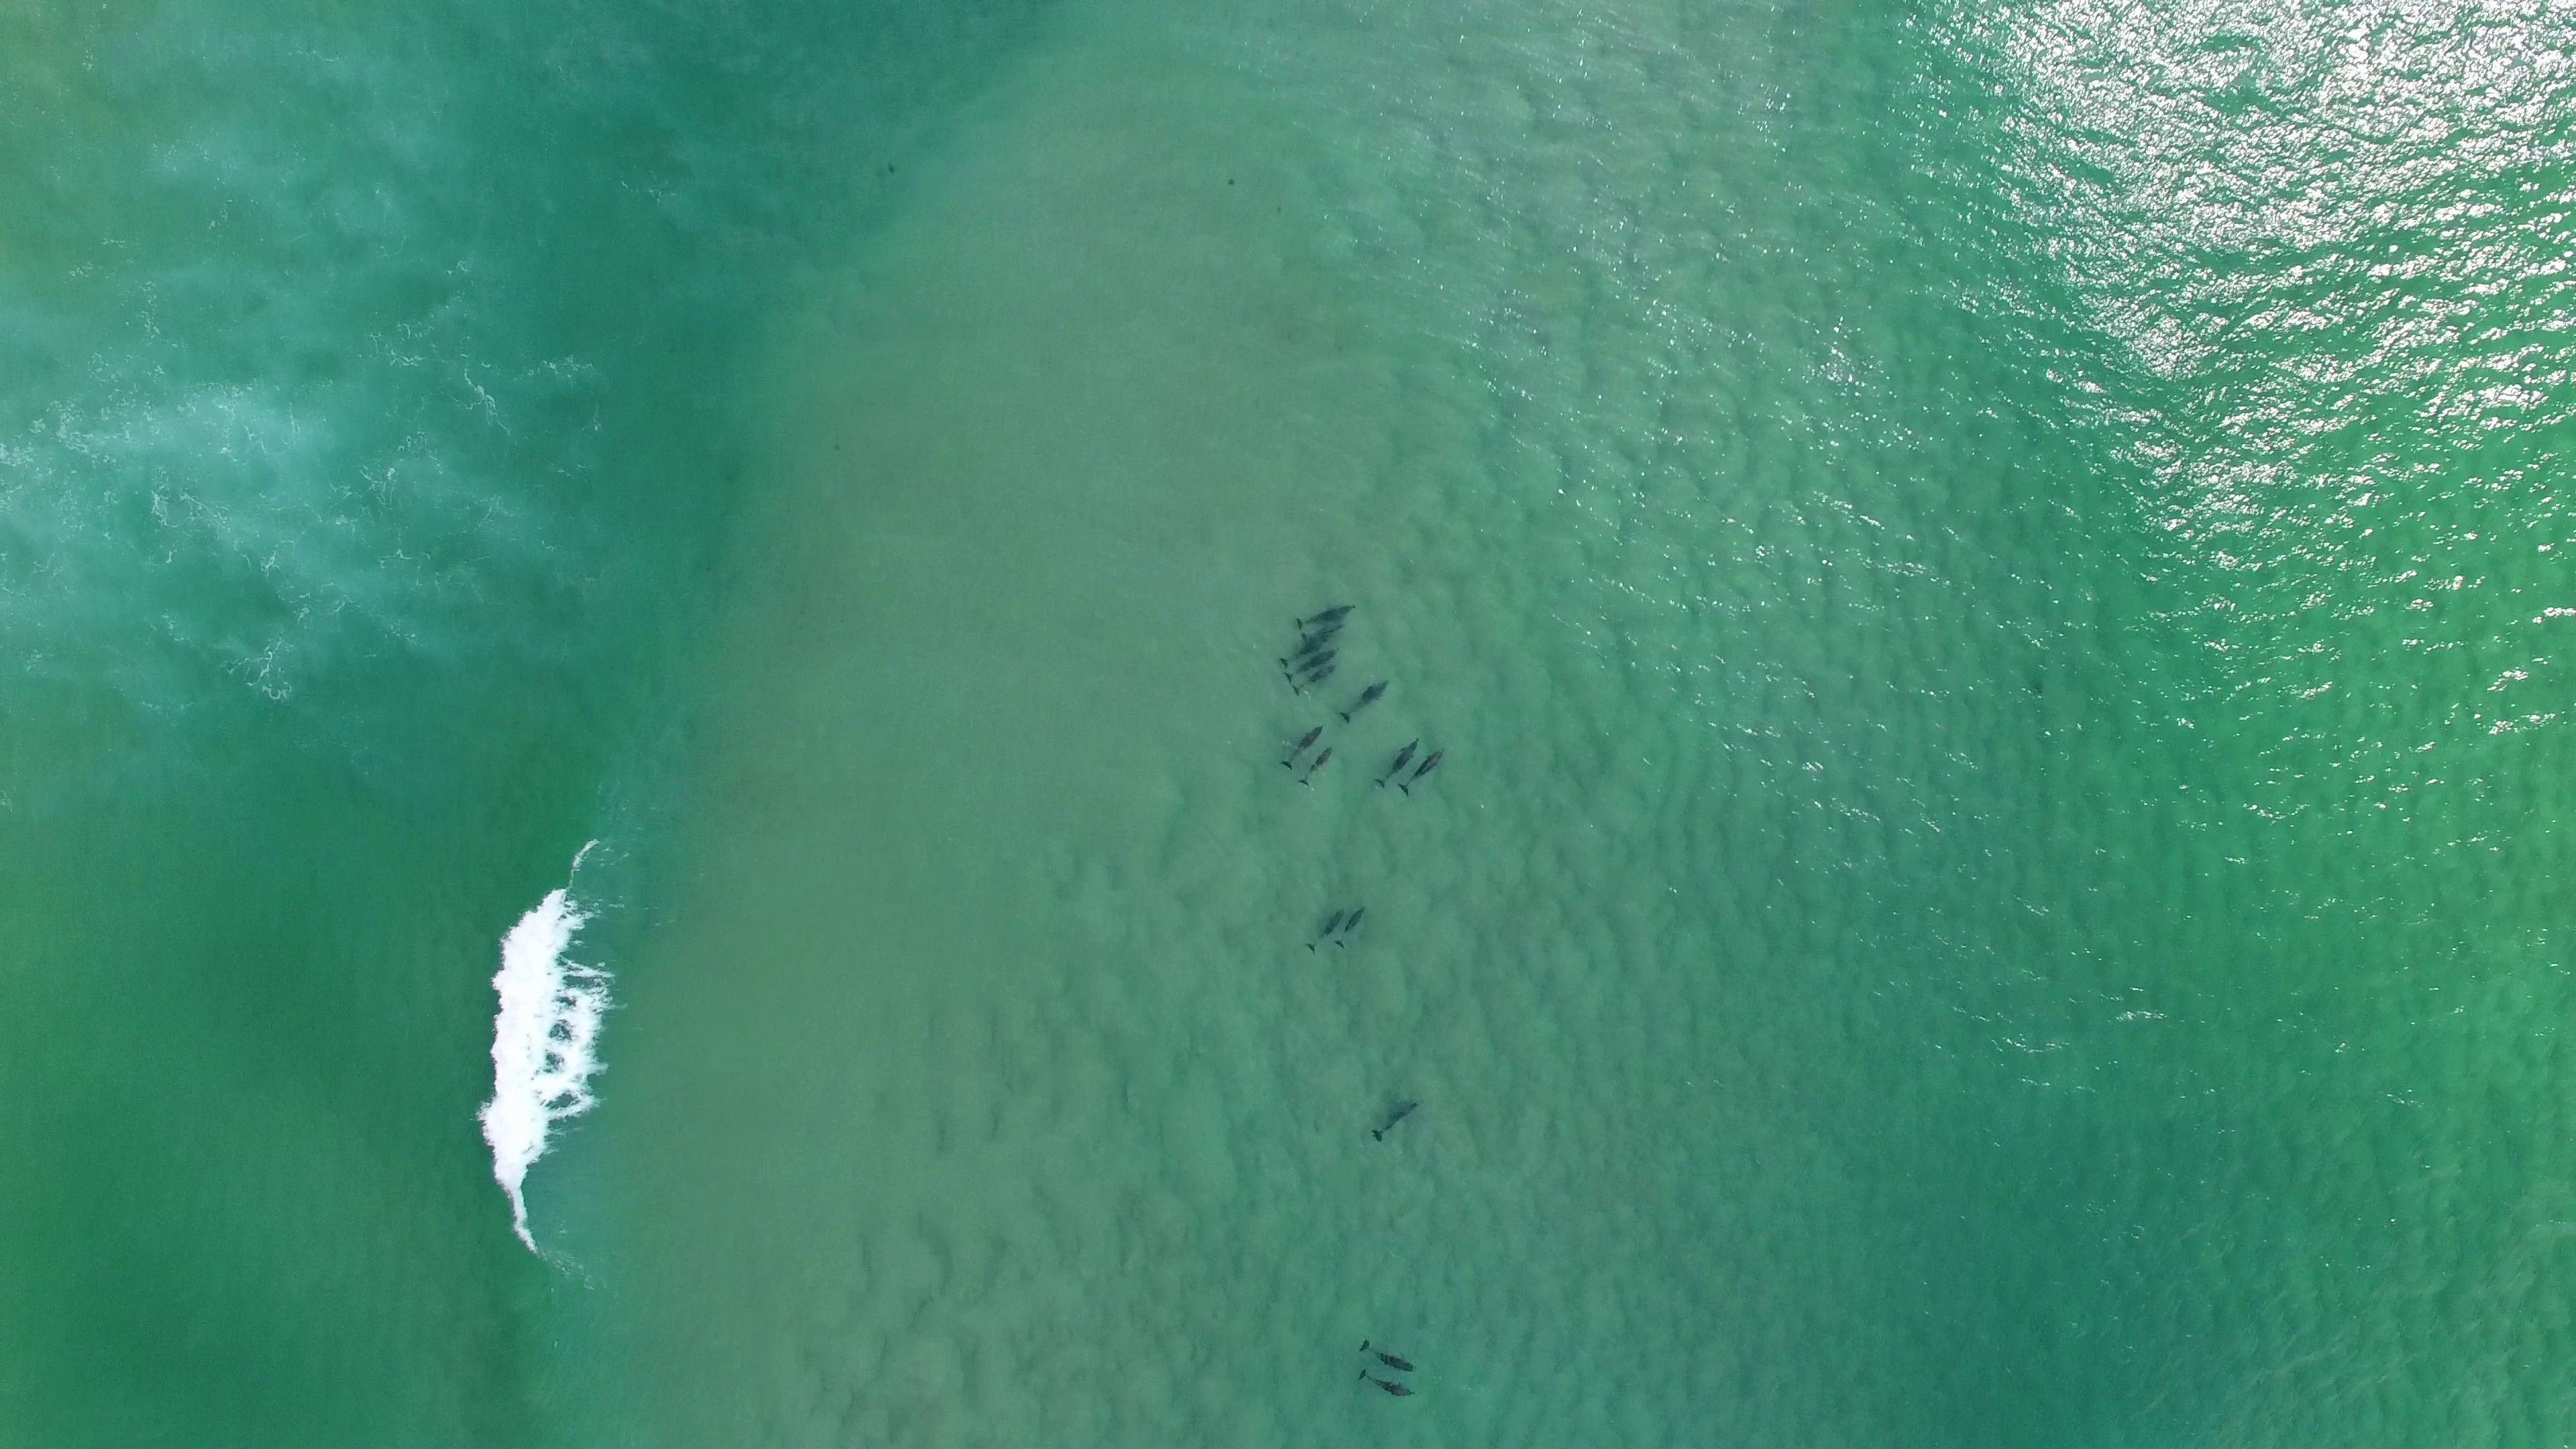dolphin: (1338, 676, 1391, 725), (1375, 734, 1421, 789), (1398, 747, 1447, 796), (1371, 1095, 1422, 1143), (1284, 644, 1341, 683), (1361, 1336, 1415, 1375), (1279, 725, 1325, 770), (1359, 1366, 1417, 1399), (1279, 633, 1332, 669), (1306, 906, 1345, 954), (1299, 743, 1334, 791), (1288, 662, 1338, 695), (1295, 602, 1357, 628), (1336, 906, 1366, 948), (1302, 621, 1350, 642)
